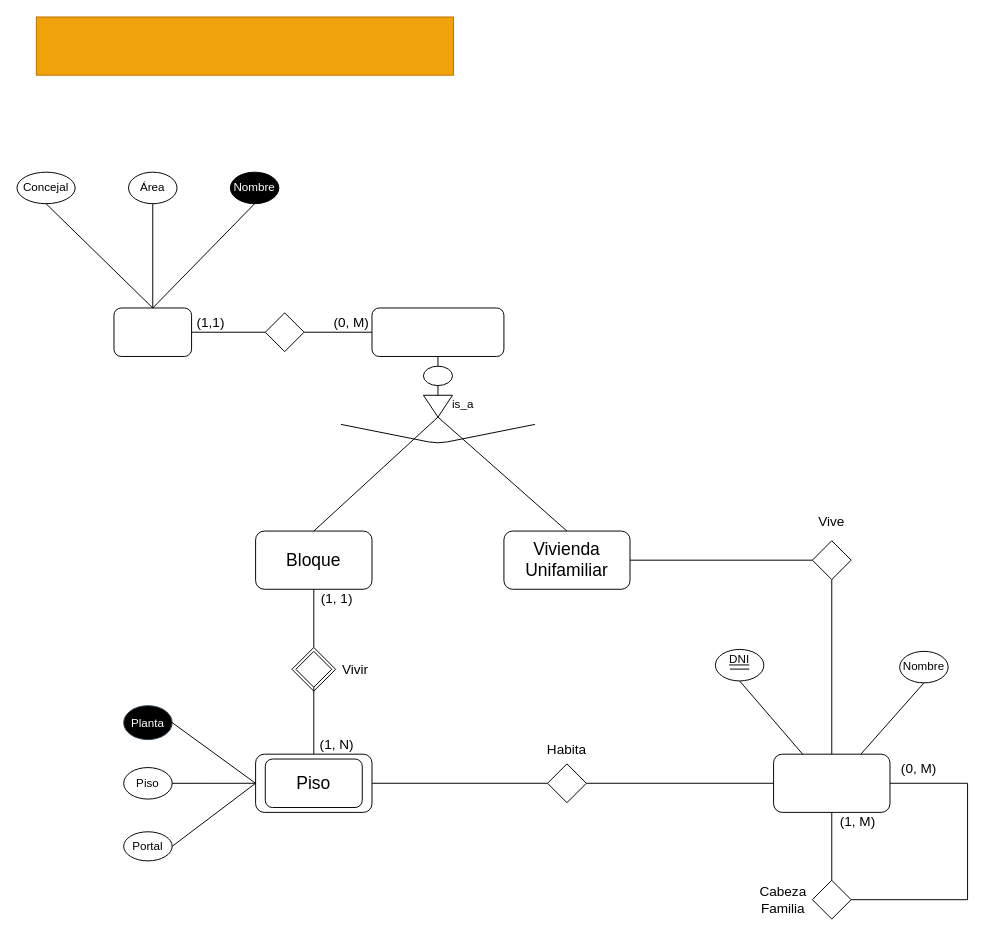
Image size: 986x936. Some labels were removed from this diagram. The centre of each missing label's shape, as x and y in pixels:
Construcción: (x=437, y=331)
FRANCISCO JAVIER AROCAS HERRERA | ALU0100906813: (x=244, y=45)
Persona: (x=831, y=782)
Zona: (x=152, y=331)
